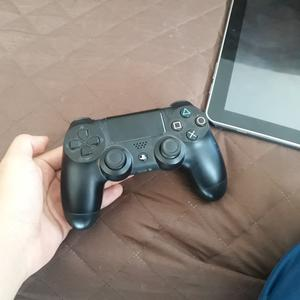controller: (61, 101, 226, 228)
